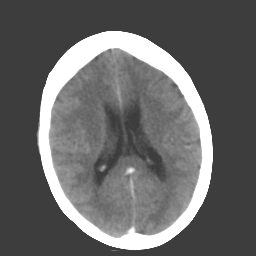ischemic: (70, 105, 100, 135)
